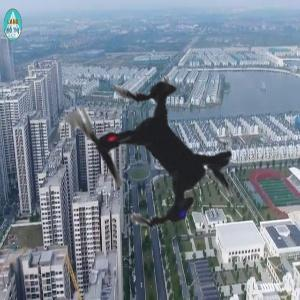drone: (20, 22, 290, 292)
